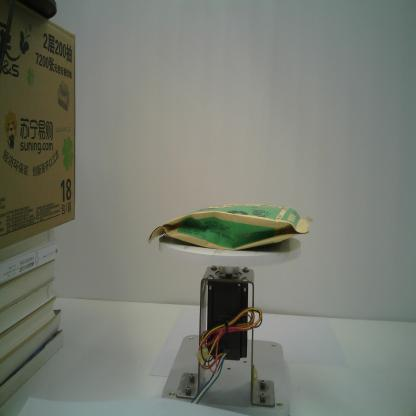Dried Food: (146, 201, 314, 251)
